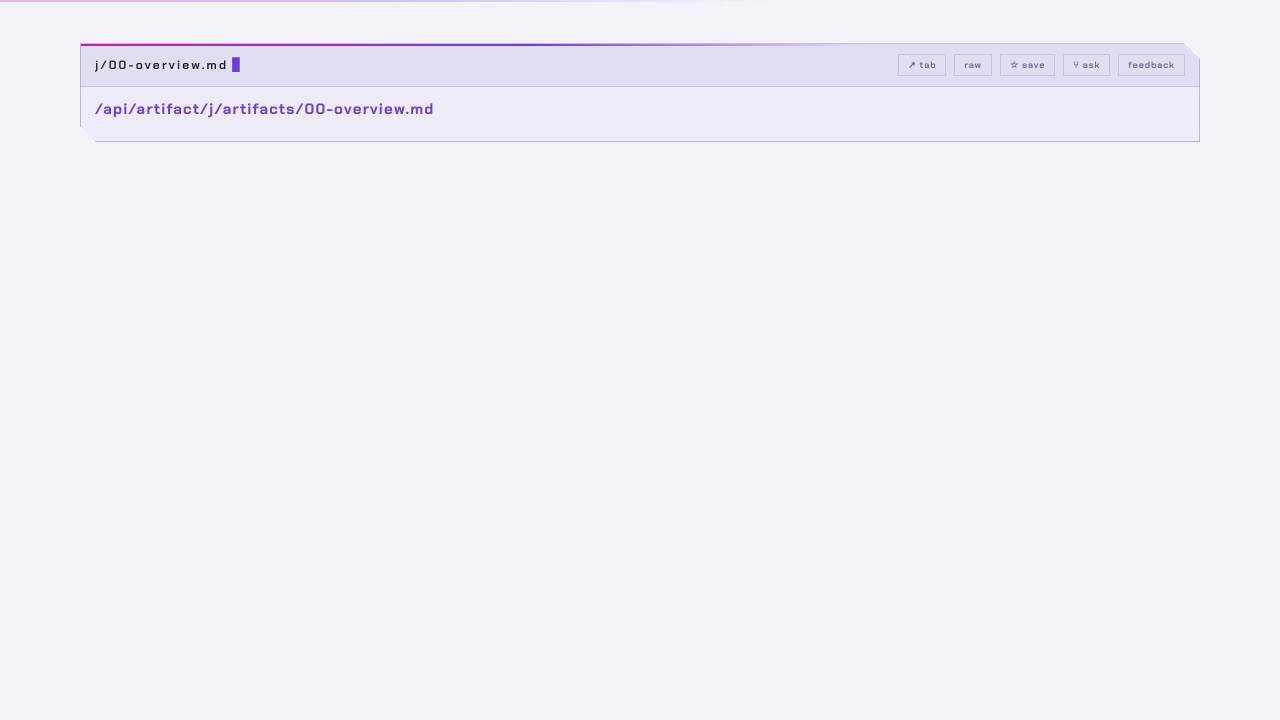
Test: the ask composer › locks every composer-closing control while a branch is in flight
The image size is (1280, 720).
Step 1. Click the button "⑂ ask" → (1087, 65), box [1063,54,1110,76]
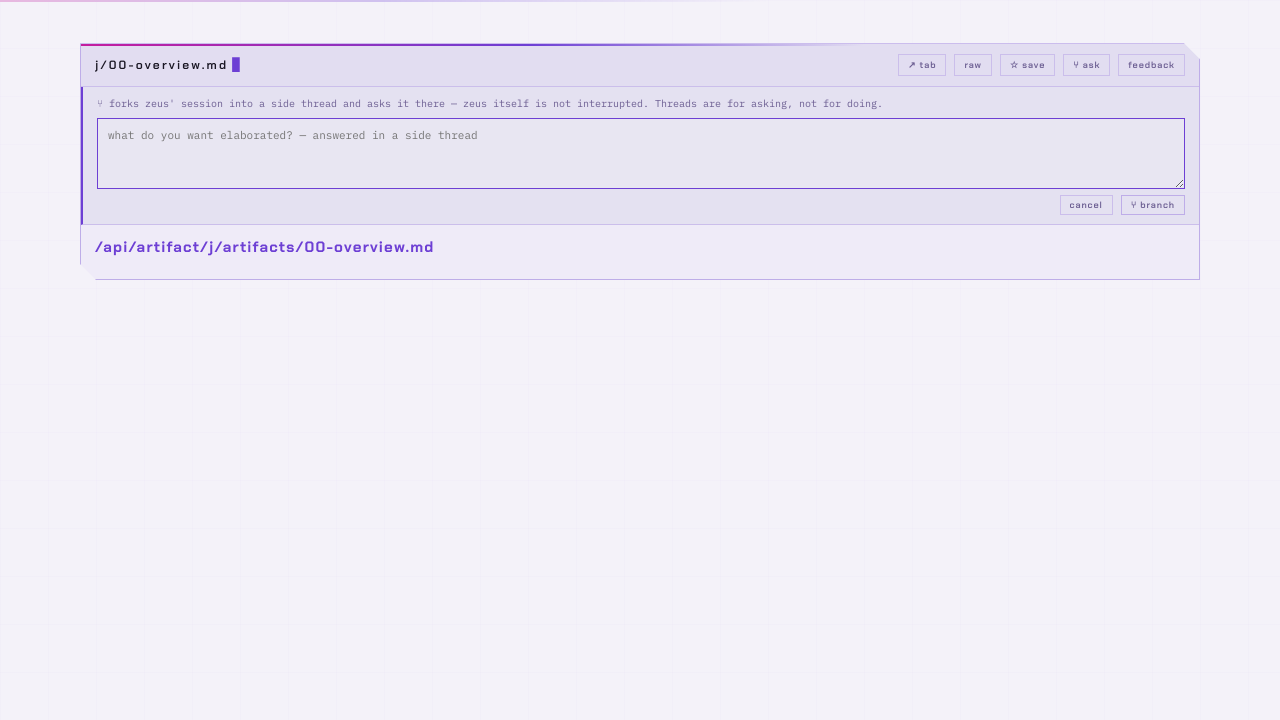
Step 2. Type "in flight" into the text box with id "ask-text" → (641, 154), box [97,118,1185,189]
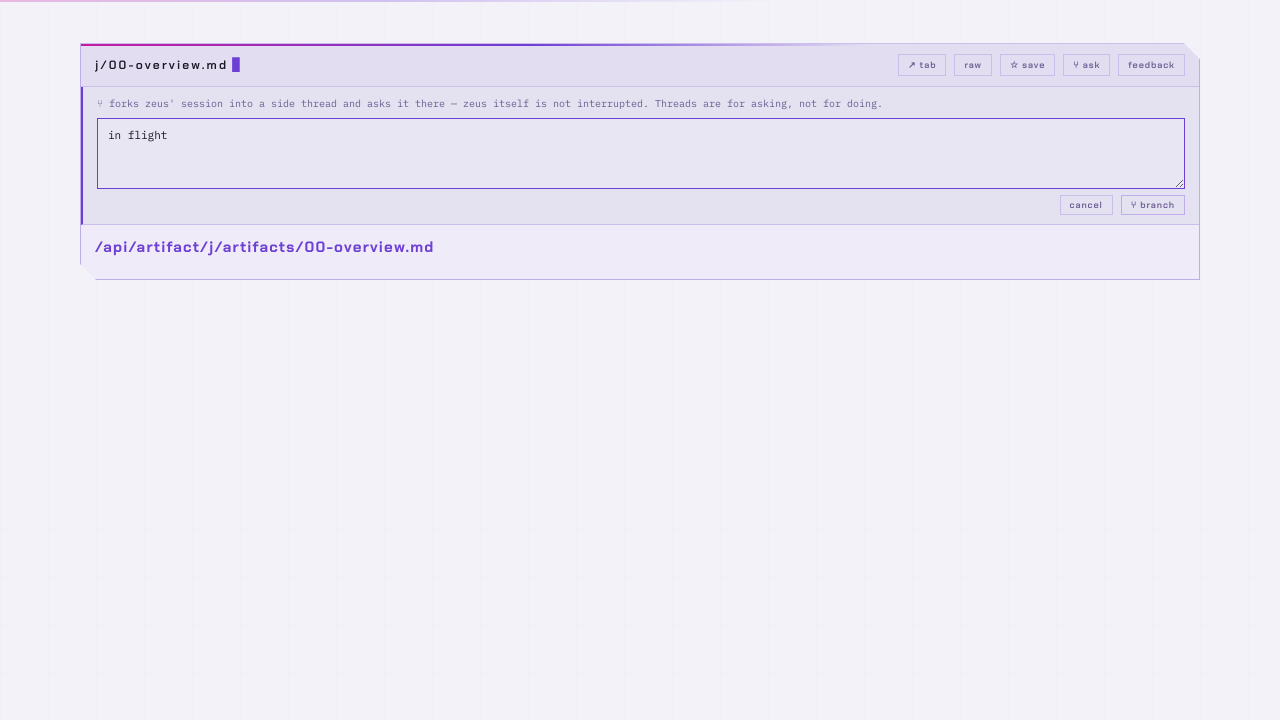
Step 3. Click the button "⑂ branch" → (1153, 205), box [1121,195,1185,215]
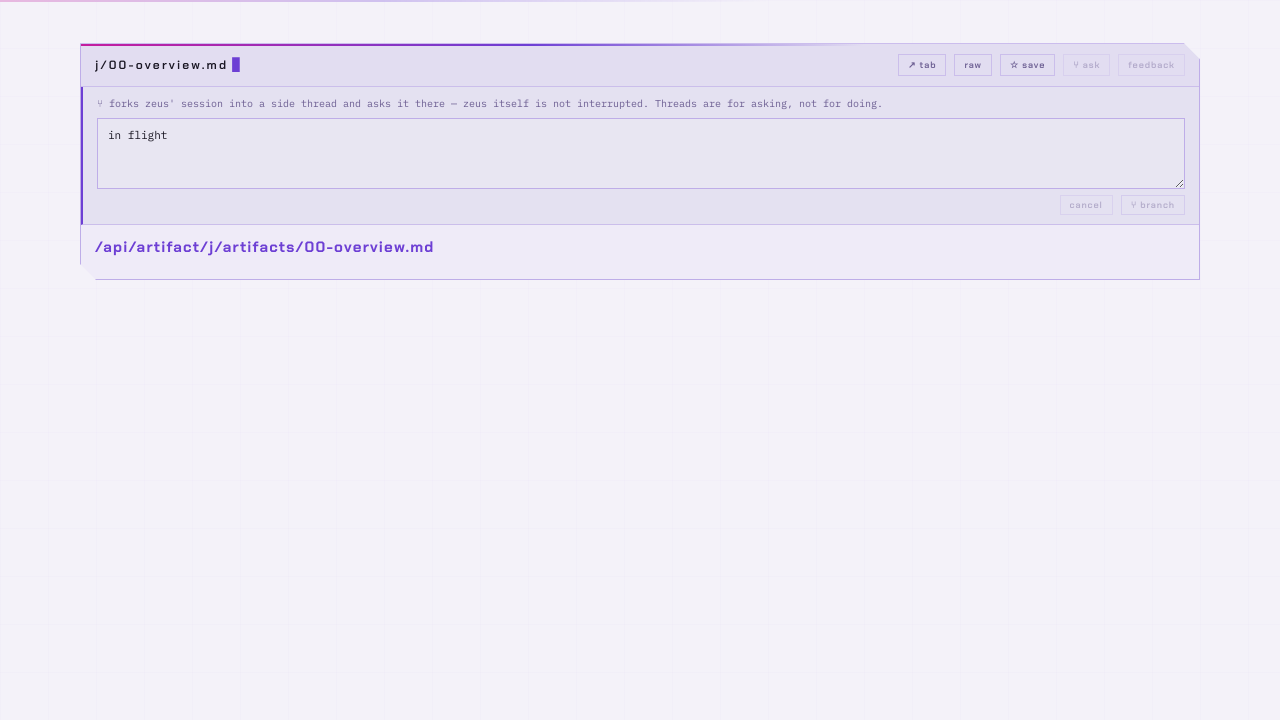
Check: the button "⑂ ask" is disabled, box [1063,54,1110,76]
Check: the button "feedback" is disabled, box [1118,54,1185,76]
Check: the button with id "ask-cancel" is disabled, box [1060,195,1113,215]
